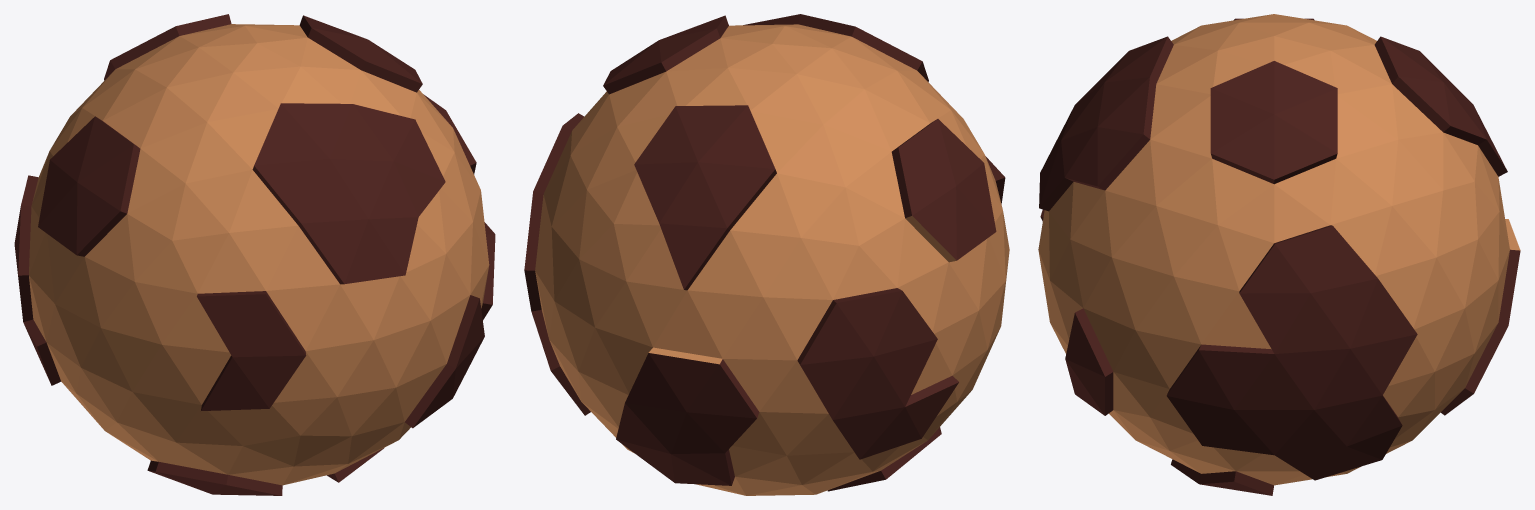
The model's file is MercuryLowPoly.fbx.
The picture shows the model from 3 angles, left to right: view 1: azimuth 30°, elevation 25°; view 2: azimuth 150°, elevation 25°; view 3: azimuth 270°, elevation 25°; orthographic projection. The views are drawn at different scales.
Visible parts, largest first — view 1: Icosphere; view 2: Icosphere; view 3: Icosphere.
Part boxes in pixels (x1,y1,x2,y2): Icosphere: (14,14,495,495); Icosphere: (524,14,1009,495); Icosphere: (1038,14,1520,495).
Bounding box in the file's own units: 205 × 202 × 204.
